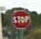stop: (10, 9, 31, 30)
